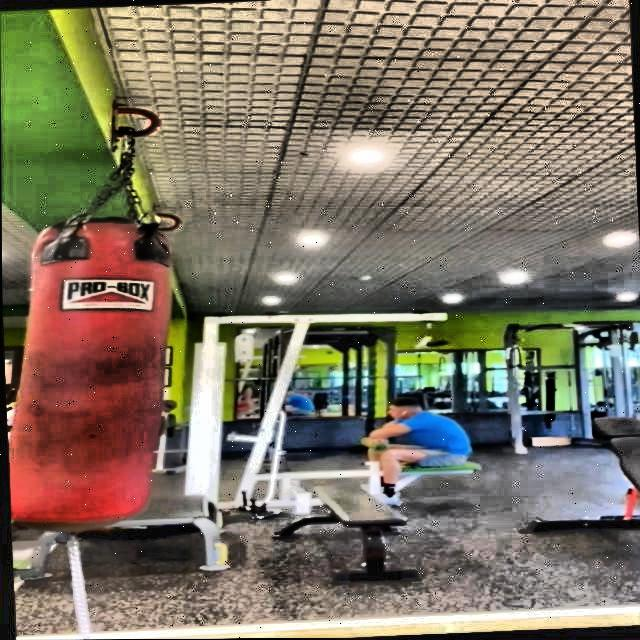boxing-bag: (1, 99, 180, 541)
